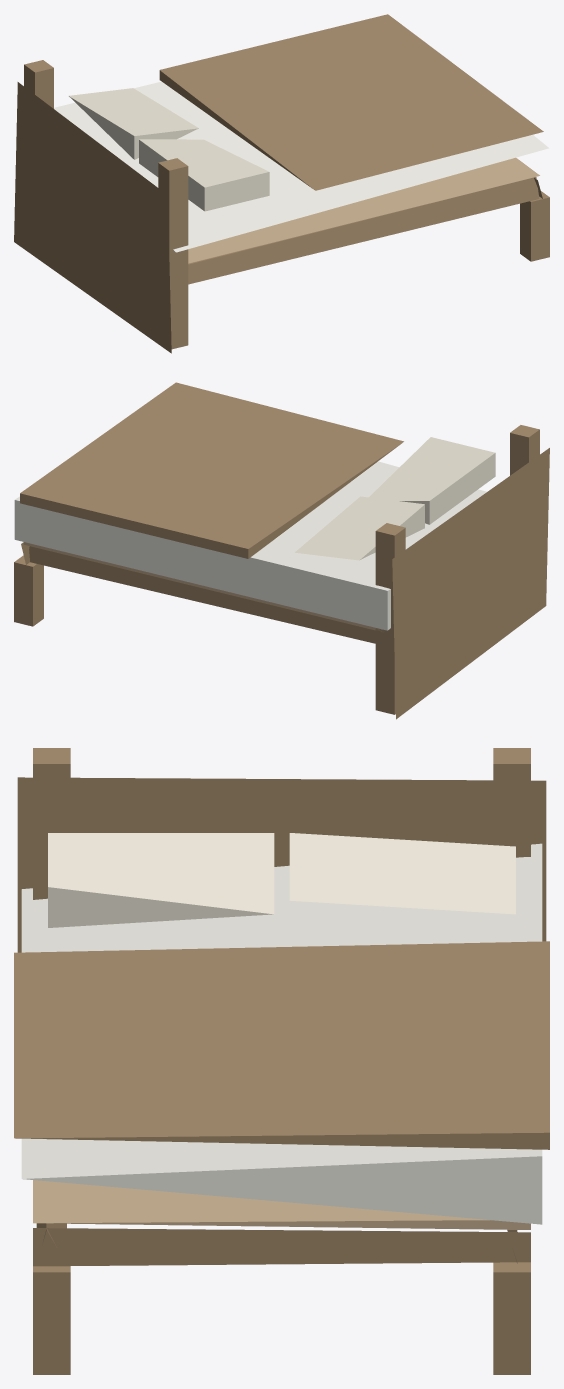
Rendered from 18-Casas_cama_doble.glb.
3 views of the same model, one above another, from view 1: azimuth 30°, elevation 25°; view 2: azimuth 150°, elevation 25°; view 3: azimuth 270°, elevation 25° (orthographic). The views are drawn at different scales.
Parts seen in each view (by area): view 1: SM_CamaDoble_M_Mueble_Madera_Oscura, SM_CamaDoble_M_Mueble_Tela_Roja, SM_CamaDoble_M_Mueble_Lino, SM_CamaDoble_M_Mueble_Tela_Crema, SM_CamaDoble_M_Mueble_Madera_Clara; view 2: SM_CamaDoble_M_Mueble_Tela_Roja, SM_CamaDoble_M_Mueble_Madera_Oscura, SM_CamaDoble_M_Mueble_Lino, SM_CamaDoble_M_Mueble_Tela_Crema, SM_CamaDoble_M_Mueble_Madera_Clara; view 3: SM_CamaDoble_M_Mueble_Tela_Roja, SM_CamaDoble_M_Mueble_Madera_Oscura, SM_CamaDoble_M_Mueble_Lino, SM_CamaDoble_M_Mueble_Tela_Crema, SM_CamaDoble_M_Mueble_Madera_Clara.
Part boxes in pixels (box(x1,y1,x2,y2)): SM_CamaDoble_M_Mueble_Madera_Oscura: box(14, 60, 549, 353); SM_CamaDoble_M_Mueble_Tela_Roja: box(159, 14, 543, 190); SM_CamaDoble_M_Mueble_Lino: box(54, 81, 548, 252); SM_CamaDoble_M_Mueble_Tela_Crema: box(69, 88, 269, 211); SM_CamaDoble_M_Mueble_Madera_Clara: box(188, 157, 539, 263); SM_CamaDoble_M_Mueble_Tela_Roja: box(20, 382, 403, 558); SM_CamaDoble_M_Mueble_Madera_Oscura: box(14, 425, 549, 719); SM_CamaDoble_M_Mueble_Lino: box(14, 461, 486, 630); SM_CamaDoble_M_Mueble_Tela_Crema: box(295, 437, 495, 560); SM_CamaDoble_M_Mueble_Madera_Clara: box(23, 542, 384, 631); SM_CamaDoble_M_Mueble_Tela_Roja: box(14, 941, 549, 1149); SM_CamaDoble_M_Mueble_Madera_Oscura: box(17, 748, 546, 1374); SM_CamaDoble_M_Mueble_Lino: box(21, 843, 542, 1224); SM_CamaDoble_M_Mueble_Tela_Crema: box(48, 833, 515, 927); SM_CamaDoble_M_Mueble_Madera_Clara: box(33, 1180, 530, 1229).
Bounding box in the file's own units: 2.03 × 0.9 × 1.42.
